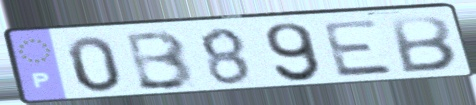0: (64, 33, 125, 95)
8: (199, 27, 254, 87)
9: (261, 21, 322, 84)
B: (124, 28, 198, 92), (387, 14, 460, 75)
E: (319, 17, 399, 79)
